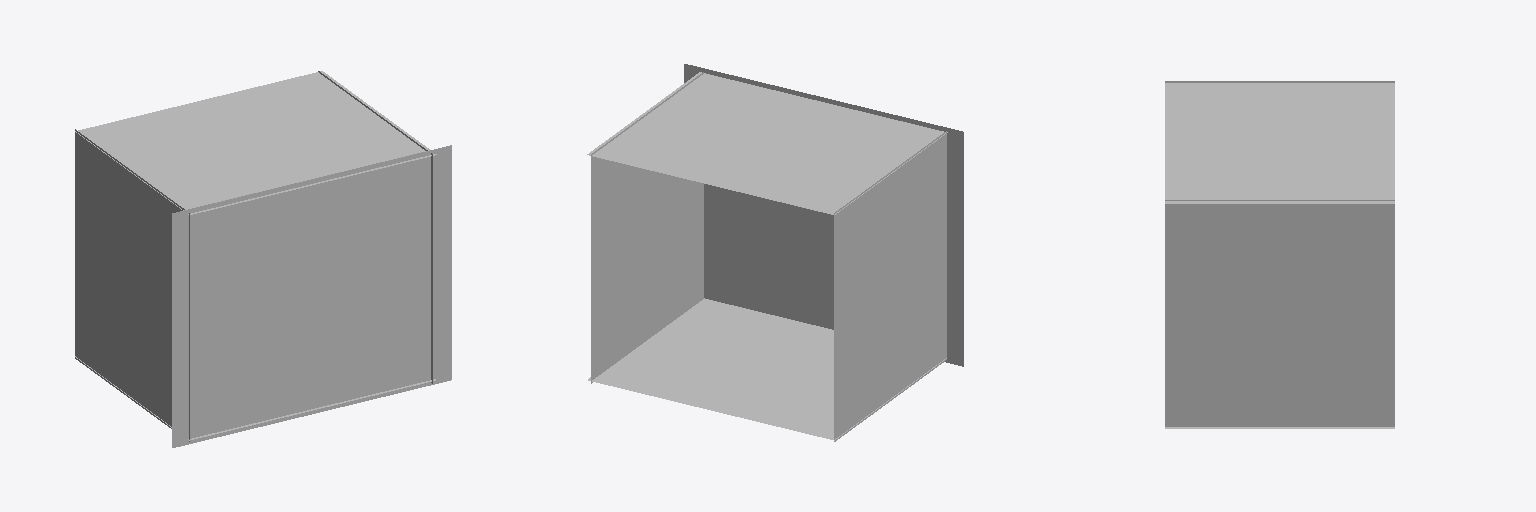
Rendered from cer.obj.
3 views of the same model, side by side, from view 1: azimuth 30°, elevation 25°; view 2: azimuth 150°, elevation 25°; view 3: azimuth 270°, elevation 25° (orthographic).
Visible parts, largest first — view 1: Plane01, Plane05, Plane06, Plane04; view 2: Plane05, Plane06, Plane03, Plane01, Plane04; view 3: Plane04, Plane05.
Part boxes in pixels (left/top/right/bottom): Plane01: left=172, top=145, right=451, bottom=447; Plane05: left=75, top=71, right=436, bottom=214; Plane06: left=75, top=129, right=189, bottom=441; Plane04: left=318, top=71, right=432, bottom=383; Plane05: left=587, top=72, right=947, bottom=214; Plane06: left=834, top=131, right=946, bottom=441; Plane03: left=588, top=298, right=946, bottom=440; Plane01: left=684, top=64, right=963, bottom=366; Plane04: left=591, top=72, right=703, bottom=383; Plane04: left=1165, top=200, right=1394, bottom=426; Plane05: left=1165, top=83, right=1394, bottom=203.
Size of the model in its own units: 11818 by 9482 by 8391.